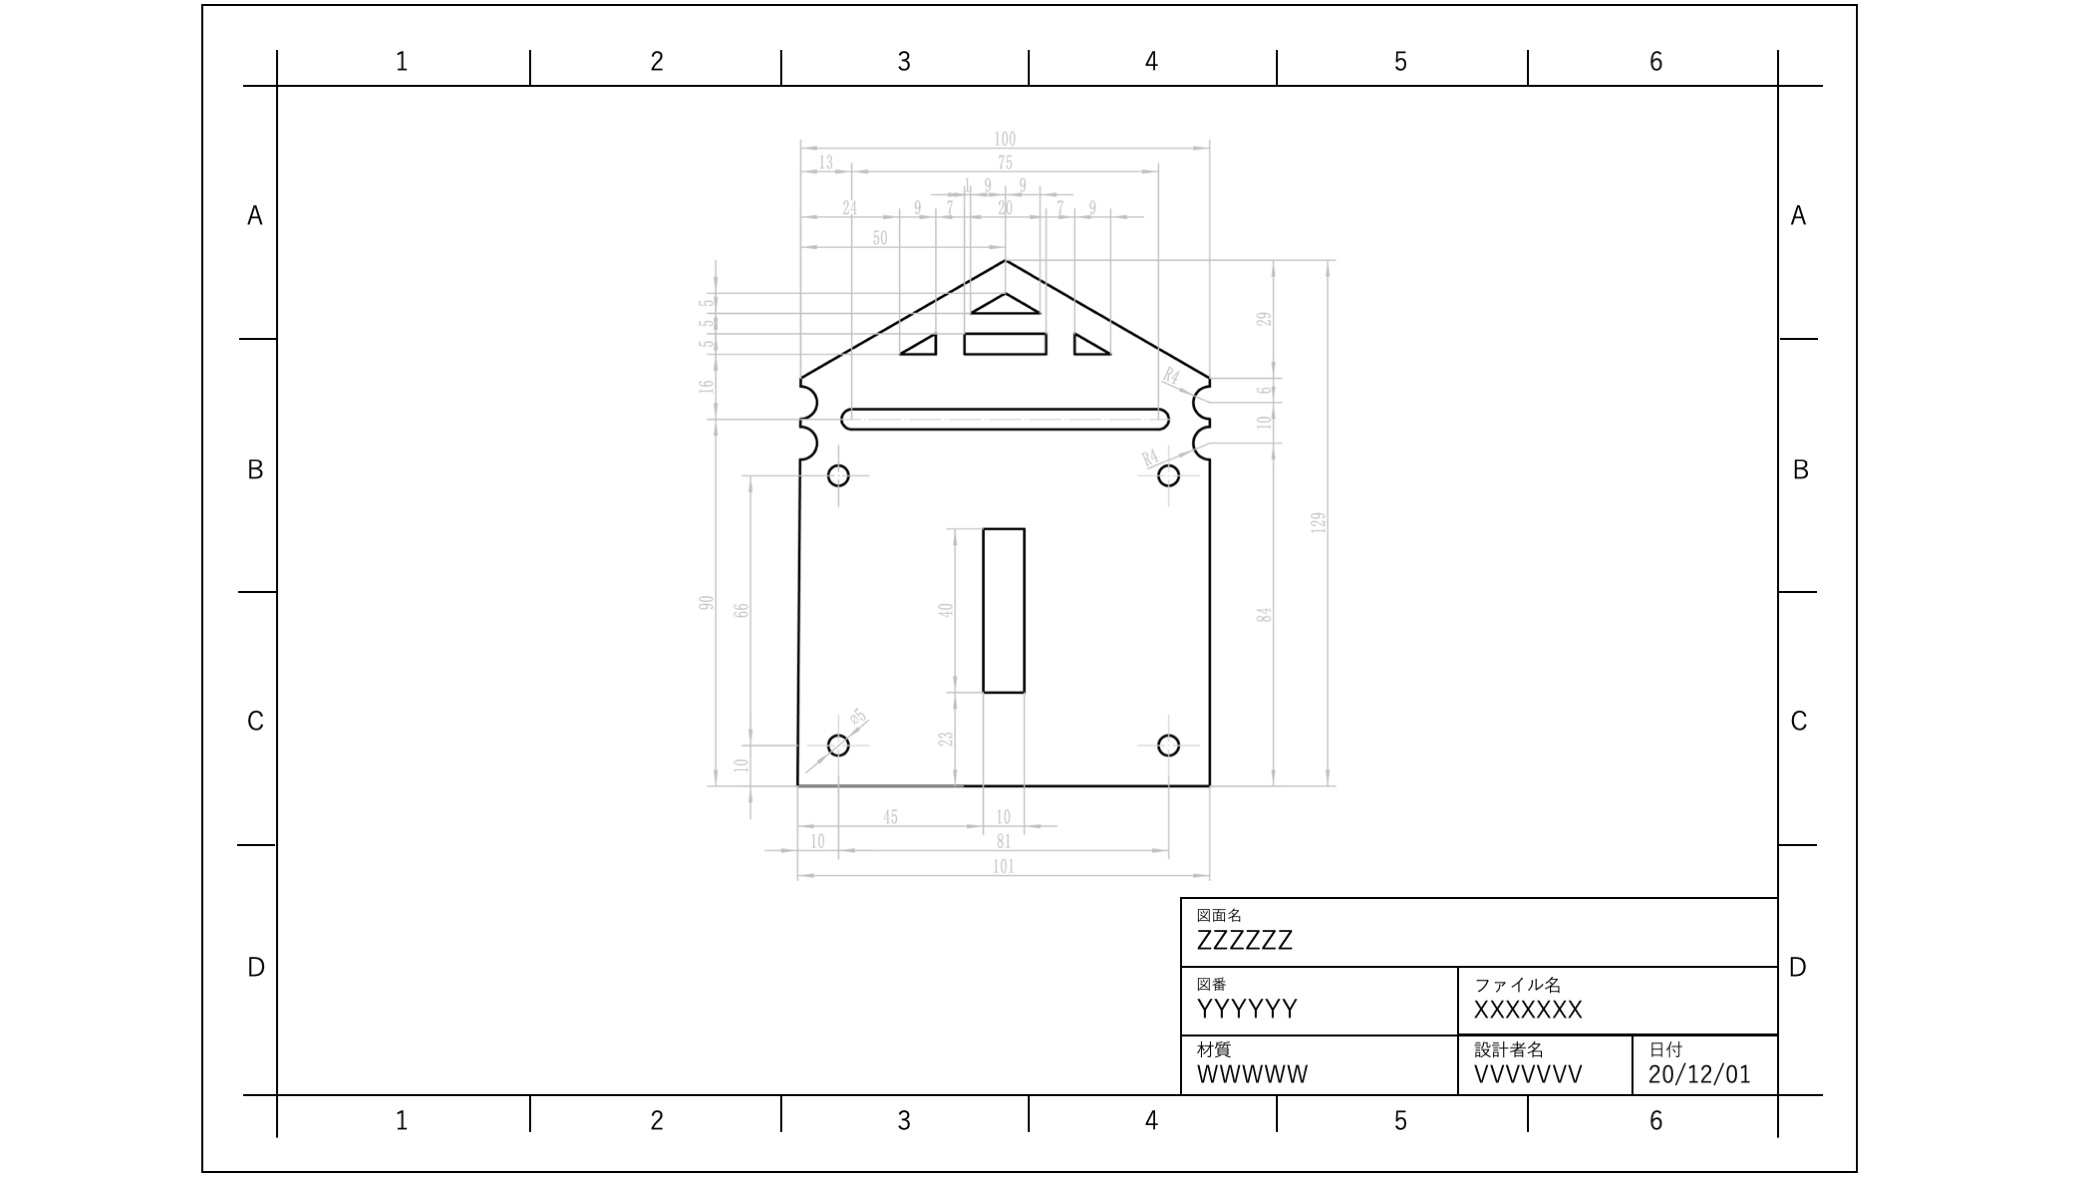circle: (1152, 457, 1186, 493), (821, 730, 852, 767), (1154, 730, 1188, 763), (818, 459, 851, 490)
rectangle: (972, 518, 1033, 708), (958, 323, 1054, 361)
round_rectangle: (829, 401, 1175, 433)
triangle: (971, 283, 1046, 323), (893, 330, 946, 361), (1067, 327, 1113, 361)
